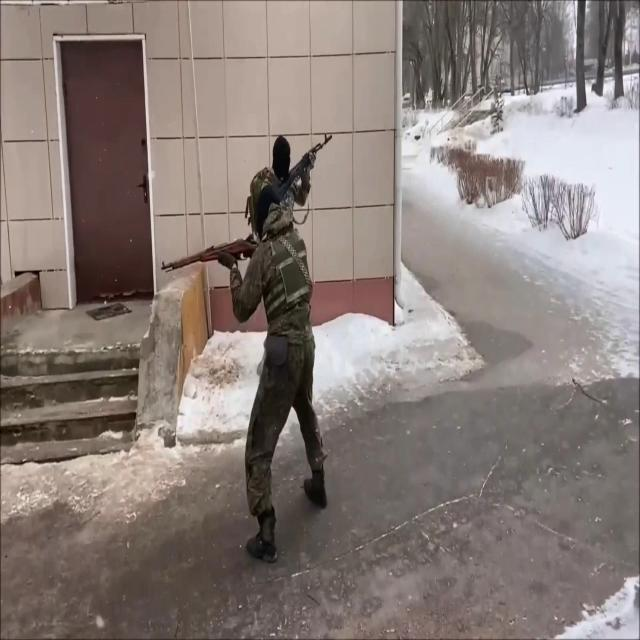gun: (161, 166, 328, 564), (248, 129, 334, 378), (160, 230, 261, 278), (274, 130, 334, 208)
